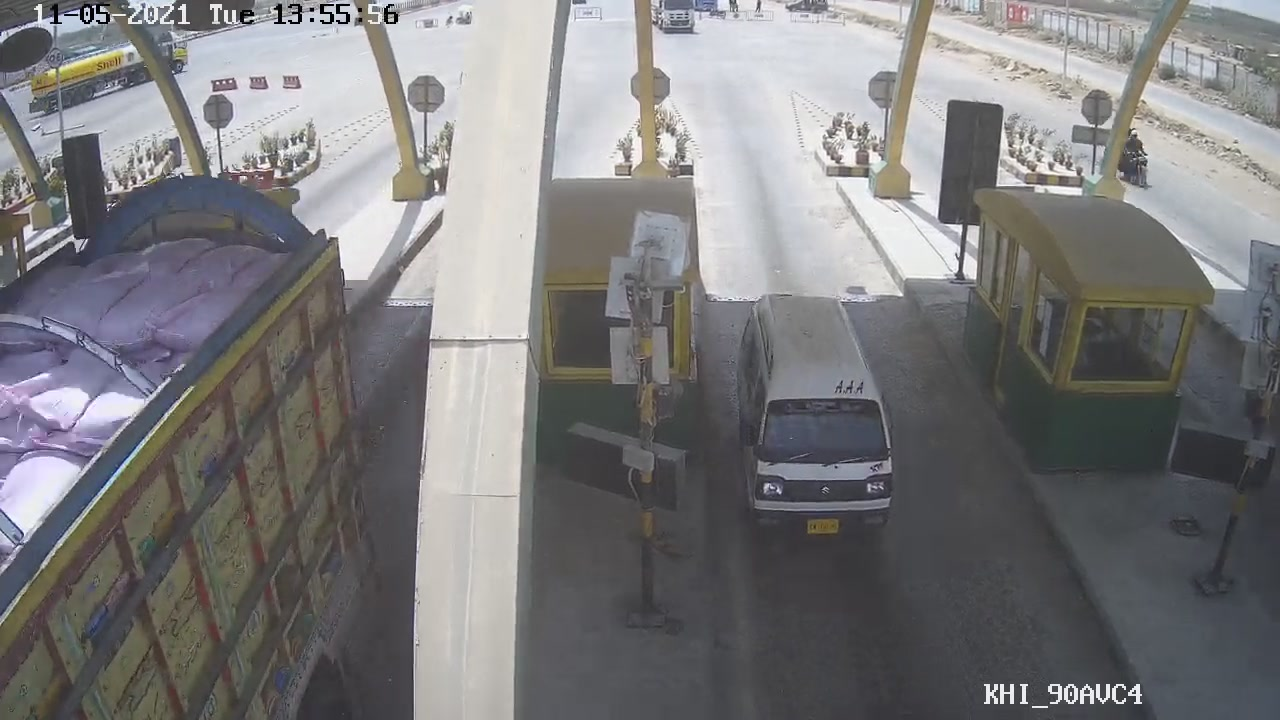F1: (728, 286, 907, 551)
